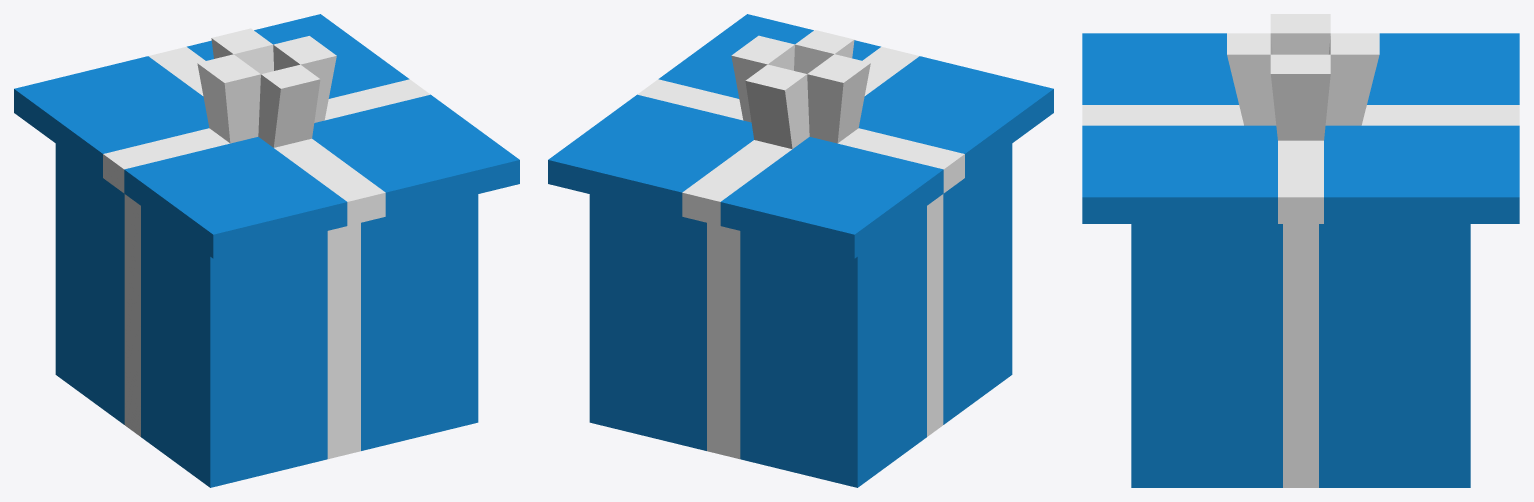
Rendered from AZUL.fbx.
3 renders of one model, left to right at view 1: azimuth 30°, elevation 25°; view 2: azimuth 150°, elevation 25°; view 3: azimuth 270°, elevation 25°, orthographic. The views are drawn at different scales.
Parts seen in each view (by area): view 1: Cube.006; view 2: Cube.006; view 3: Cube.006.
Part boxes in pixels (bbox=[...]): Cube.006: bbox=[14, 14, 519, 487]; Cube.006: bbox=[548, 14, 1053, 487]; Cube.006: bbox=[1082, 14, 1519, 487].
Bounding box in the file's own units: 229 × 242 × 258.
